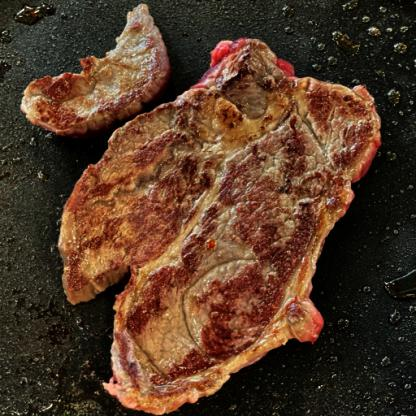Carne: (52, 31, 392, 415), (21, 9, 173, 142)
